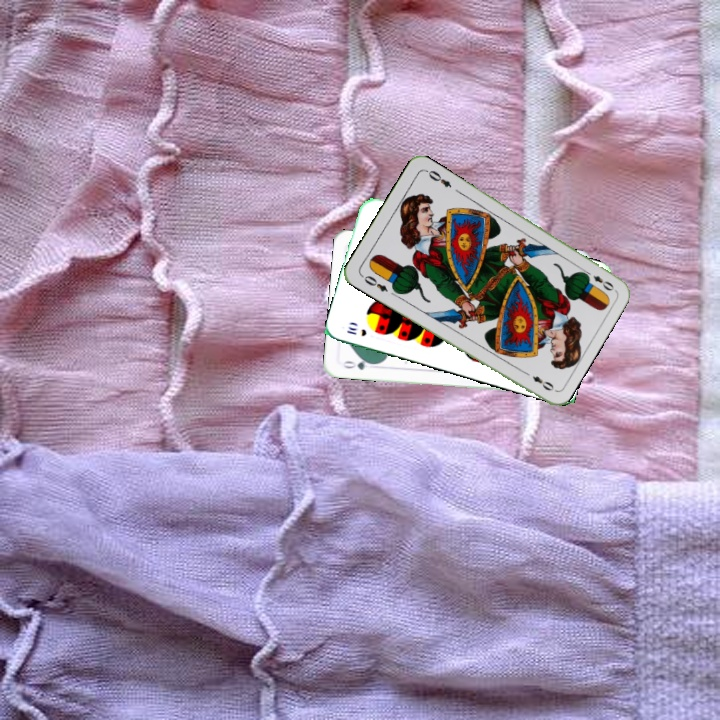EO: (580, 266, 617, 294), (357, 271, 390, 294)
GO: (338, 355, 378, 373)
S10: (343, 322, 369, 339)
